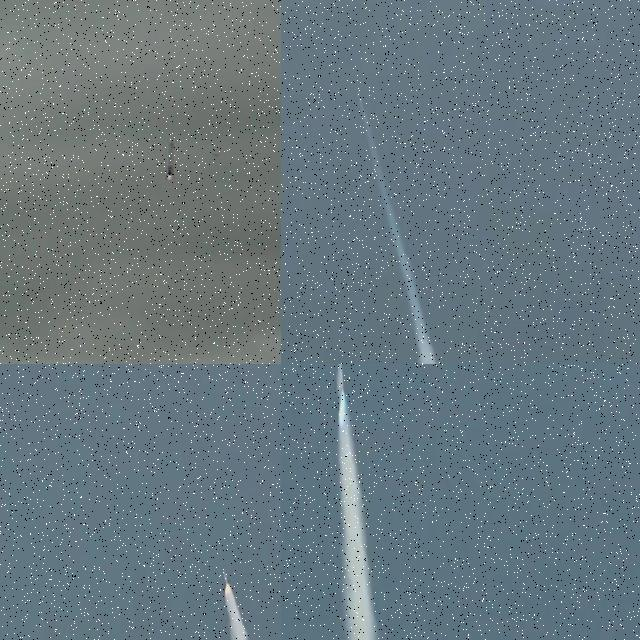Rocket: (334, 364, 350, 425), (164, 140, 178, 174), (223, 571, 230, 588), (358, 92, 362, 100)
